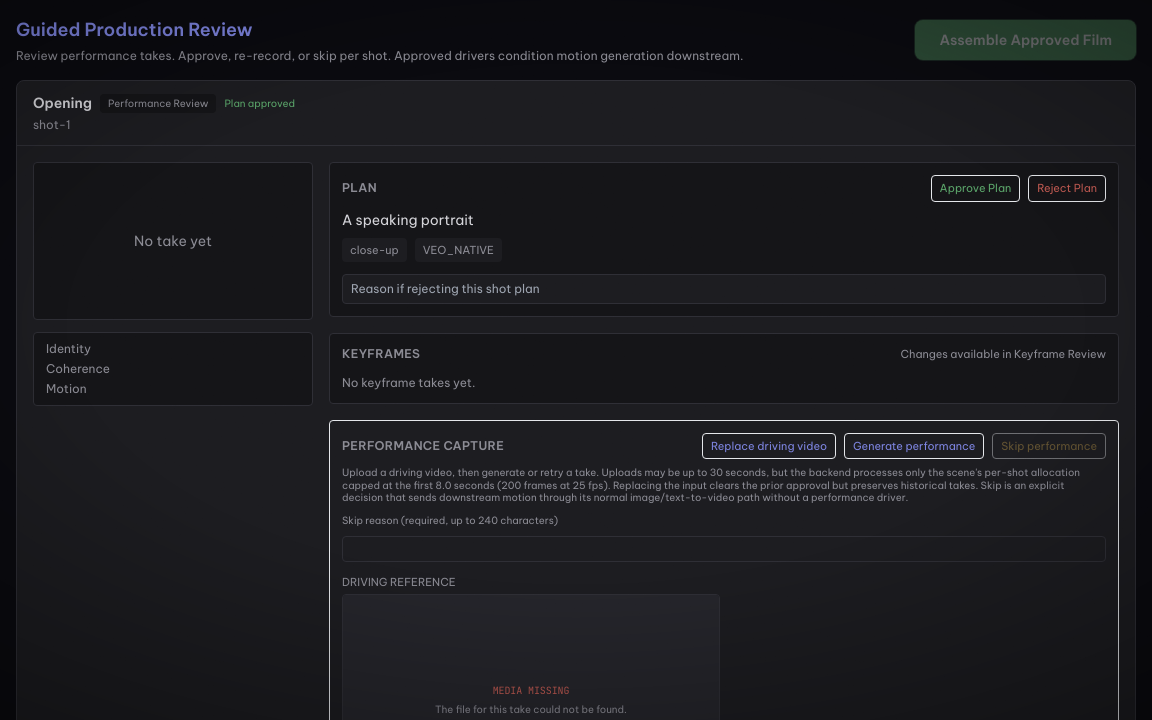
Test: ReviewStage performance review workflow › requires explicit skip confirmation and announces the downstream fallback
Expected: the button "Skip performance" is disabled, [992,432,1106,459]
Step 1. Type "The acting reference is unusable" into the field labelled "Skip reason (required, up to 240 characters)" → (724, 548), box [342,536,1106,562]
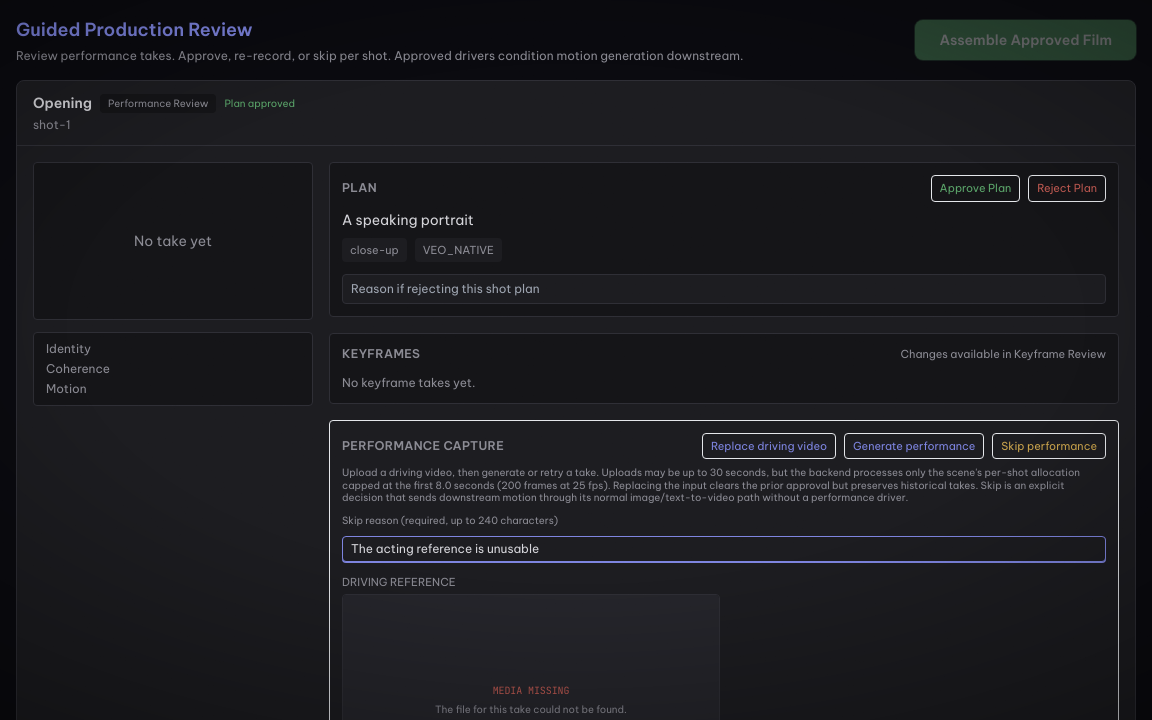
Now the button "Skip performance" is enabled
Step 2. Click the button "Skip performance" → (1049, 446), box [992,432,1106,459]
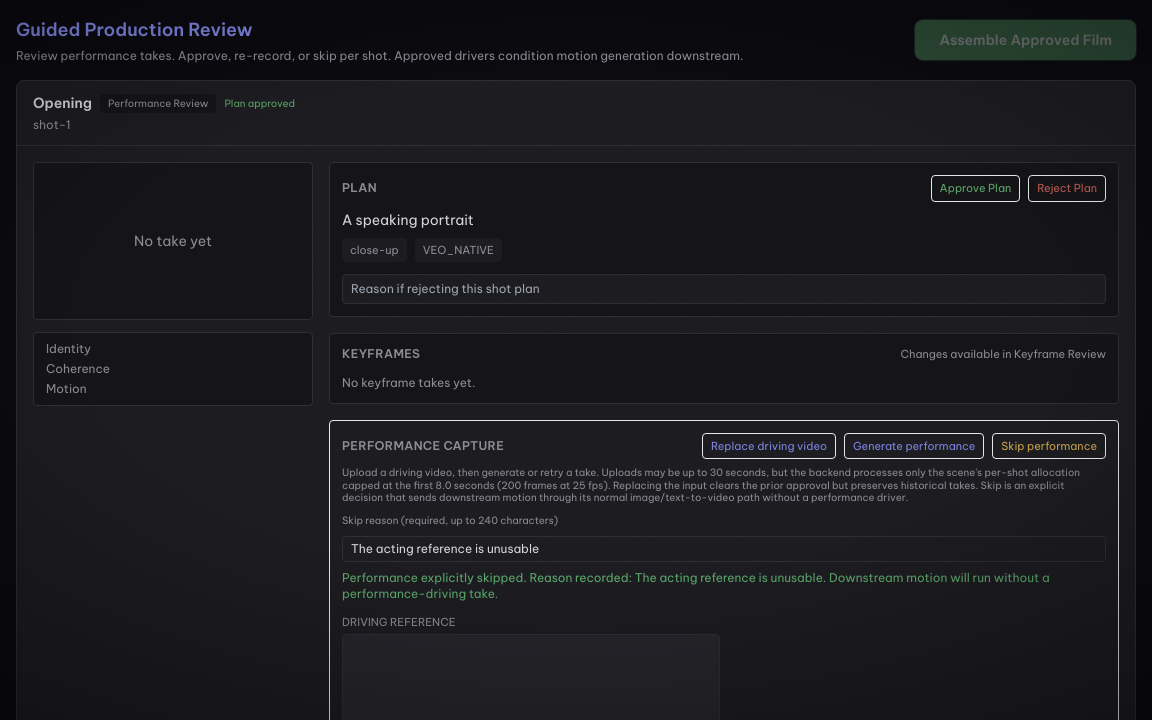
Now the message shows "Performance explicitly skipped. Reason recorded: The acting reference is unusable. Downstream motion will run without a performance-driving take.", box [342,570,1050,600]
